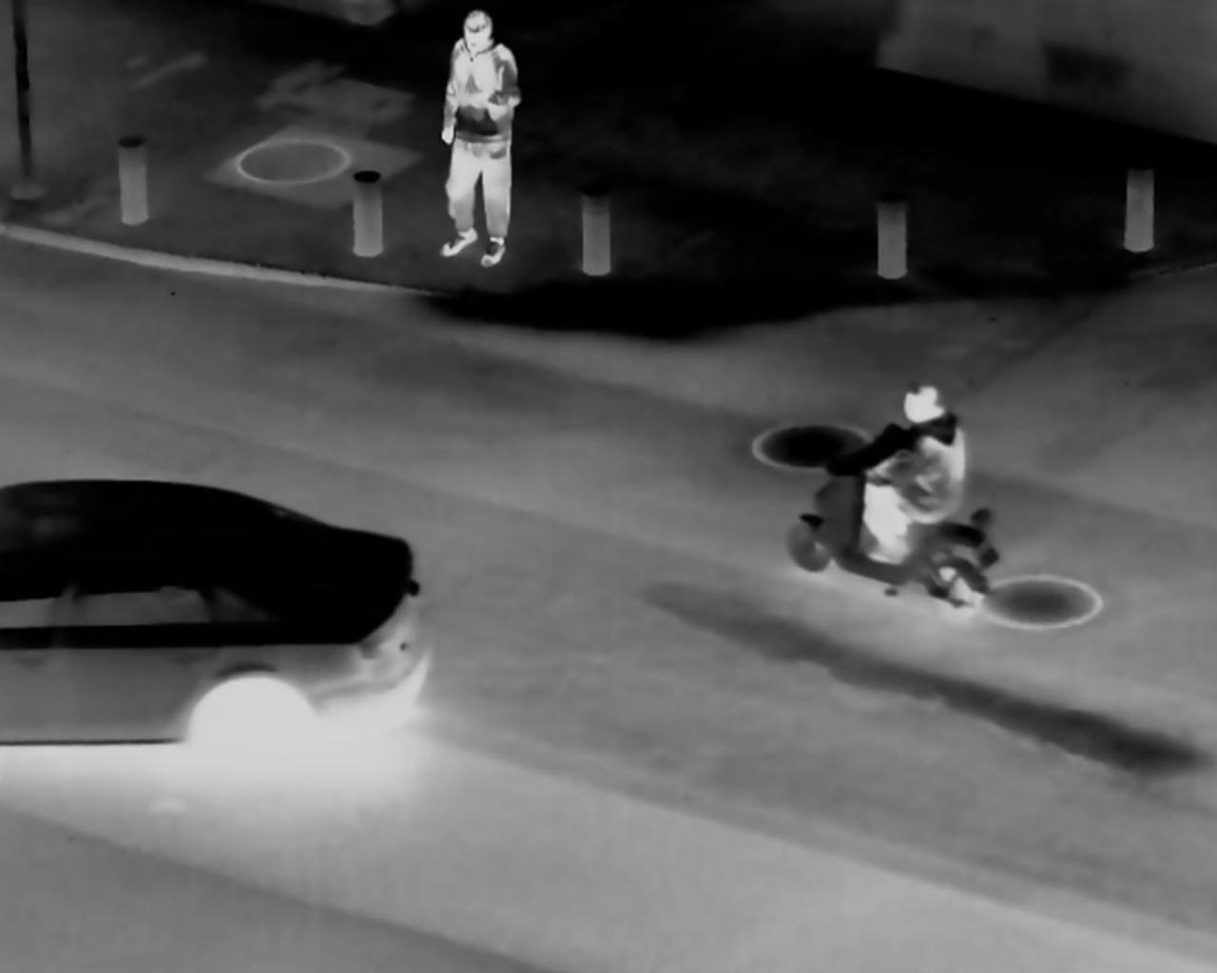person: (852, 370, 967, 576), (438, 11, 521, 268)
